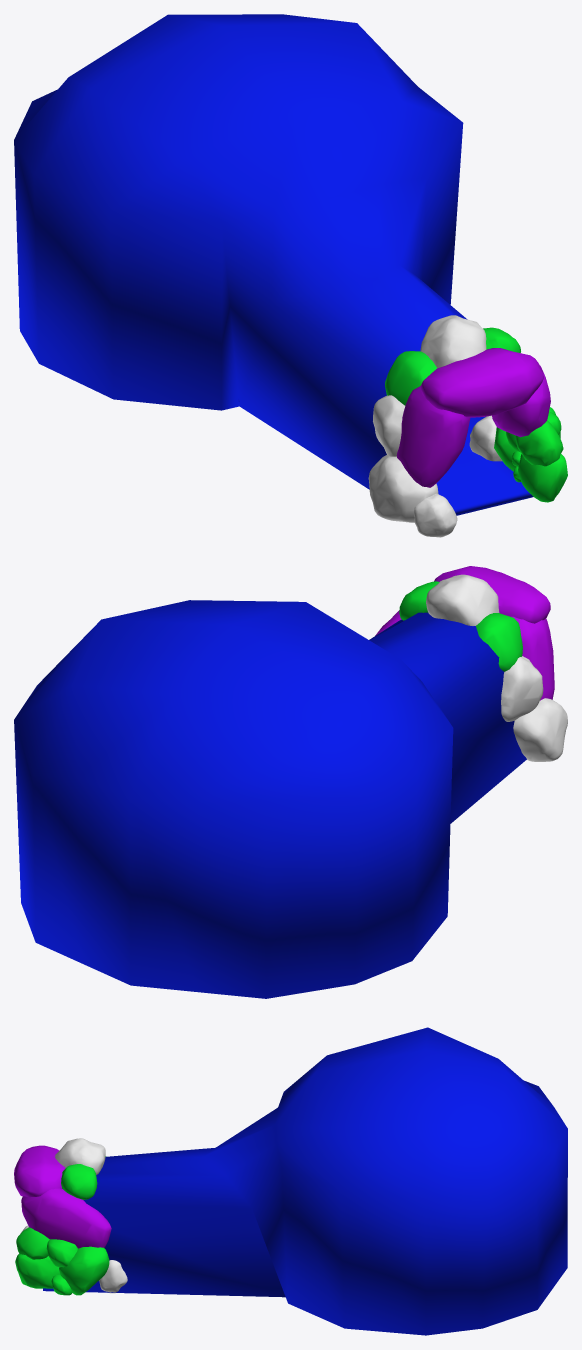
Rendered from kilpikonnanluola2.fbx.
3 views of the same model, one above another, from view 1: azimuth 30°, elevation 25°; view 2: azimuth 150°, elevation 25°; view 3: azimuth 270°, elevation 25° (orthographic). The views are drawn at different scales.
Parts seen in each view (by area): view 1: luola; view 2: luola; view 3: luola.
Boxes of the visible parts, left/top/right/bottom form: luola: left=14, top=14, right=567, bottom=537; luola: left=14, top=566, right=567, bottom=998; luola: left=14, top=1027, right=567, bottom=1335.
Bounding box in the file's own units: 9.77 × 7.37 × 16.6.
